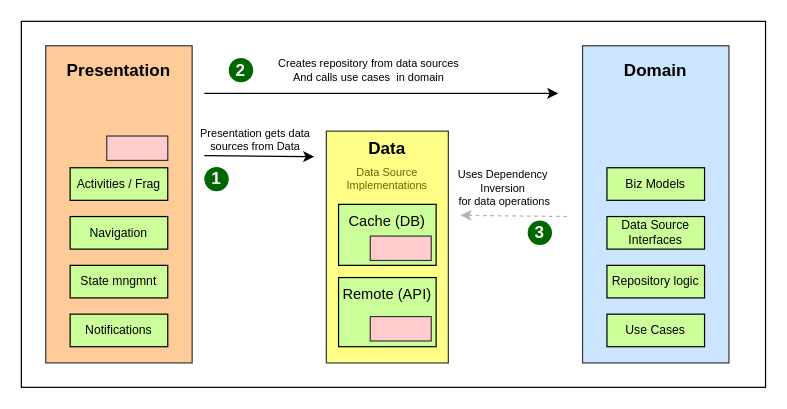
Image size: 787x409. Some labels were removed from this diagram. Here are the shapes that lost their labels. From the top down, the centre of each, then its label:
(x=137, y=147): UI Models
(x=400, y=247): DB Entites
(x=400, y=328): DTOs
